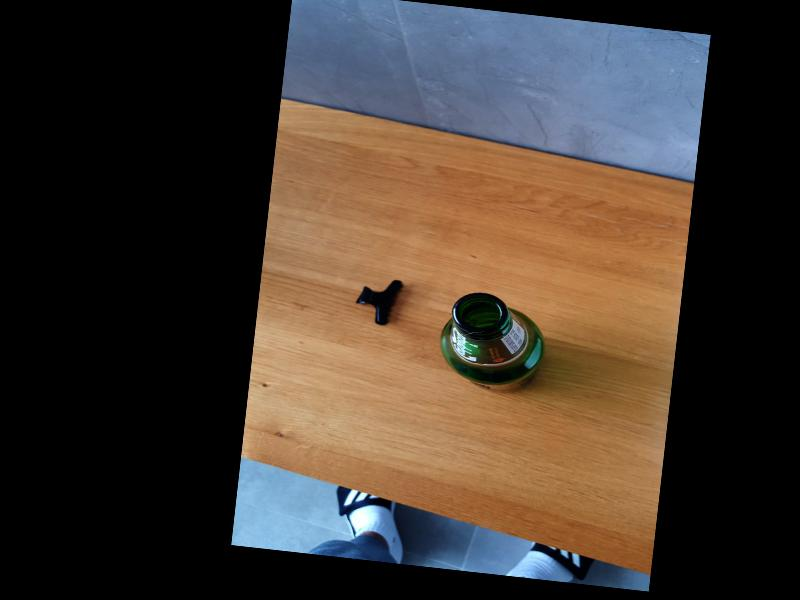Beer: (432, 289, 549, 397)
